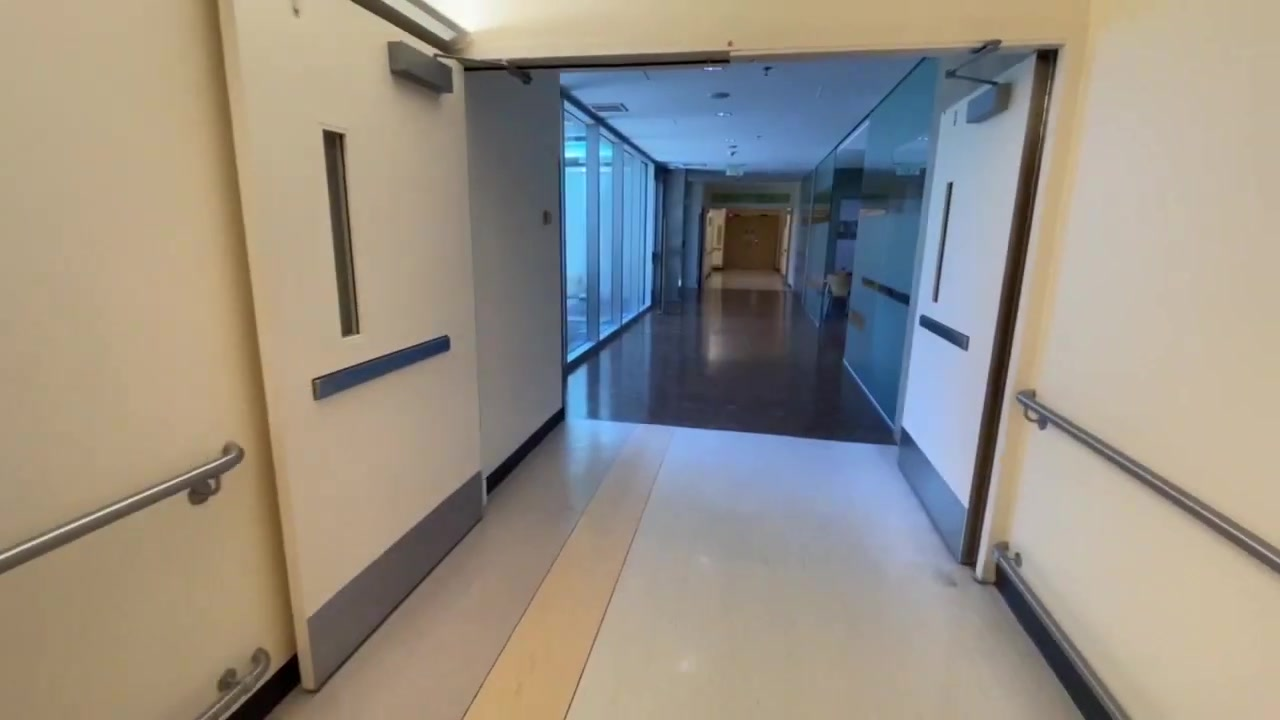door_handle: (310, 336, 451, 404), (918, 315, 969, 353)
hallway_assist_bar: (1016, 390, 1280, 578), (1, 441, 242, 578), (991, 541, 1132, 720), (194, 648, 271, 720)
